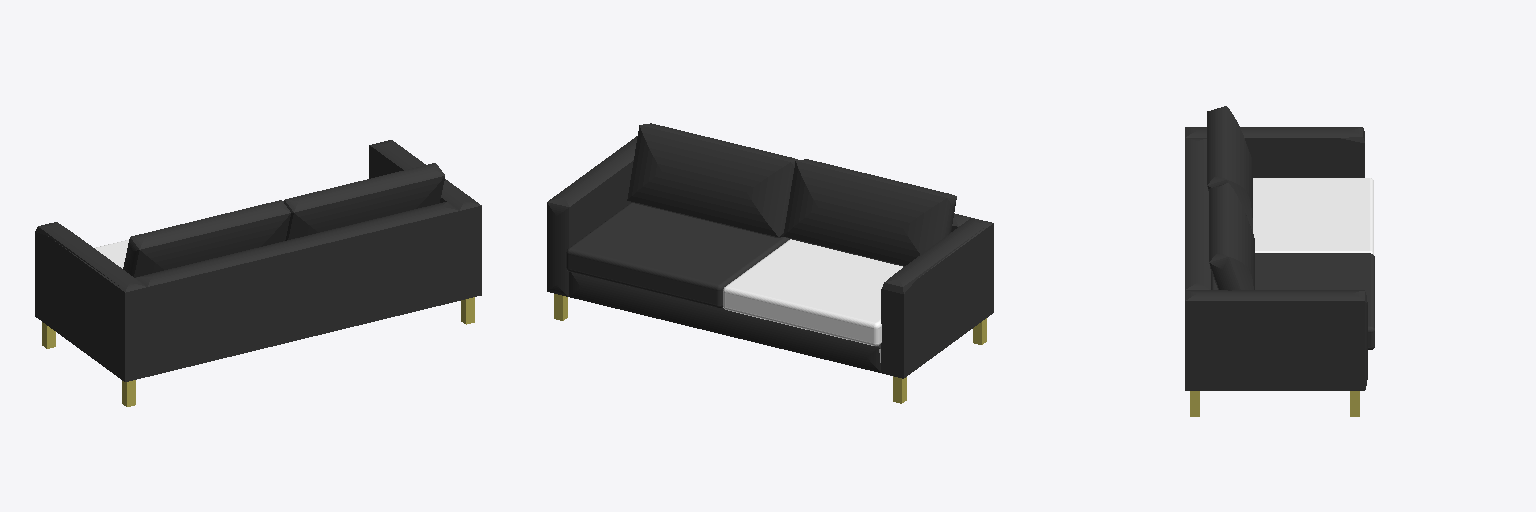
3 renders of one model, left to right at view 1: azimuth 30°, elevation 25°; view 2: azimuth 150°, elevation 25°; view 3: azimuth 270°, elevation 25°, orthographic.
Visible parts, largest first — view 1: Mesh5 Model, Mesh4 back_cushion2 Model, Mesh3 back_cushion1 Model; view 2: Mesh5 Model, Mesh1 seat_cushion1 Model, Mesh3 back_cushion1 Model, Mesh4 back_cushion2 Model, Mesh2 seat_cushion2 Model; view 3: Mesh5 Model, Mesh2 seat_cushion2 Model, Mesh1 seat_cushion1 Model, Mesh3 back_cushion1 Model, Mesh4 back_cushion2 Model.
Part boxes in pixels (x1,y1,x2,y2): Mesh5 Model: (35, 140, 481, 406); Mesh4 back_cushion2 Model: (123, 200, 290, 277); Mesh3 back_cushion1 Model: (284, 163, 444, 240); Mesh5 Model: (547, 136, 993, 403); Mesh1 seat_cushion1 Model: (566, 202, 789, 307); Mesh3 back_cushion1 Model: (627, 123, 797, 237); Mesh4 back_cushion2 Model: (784, 159, 956, 266); Mesh2 seat_cushion2 Model: (723, 239, 902, 345); Mesh5 Model: (1185, 127, 1367, 416); Mesh2 seat_cushion2 Model: (1253, 178, 1373, 254); Mesh1 seat_cushion1 Model: (1211, 253, 1374, 349); Mesh3 back_cushion1 Model: (1209, 183, 1254, 290); Mesh4 back_cushion2 Model: (1207, 106, 1252, 231).
Size of the model in its own units: 0.8745 by 0.3567 by 0.4035.